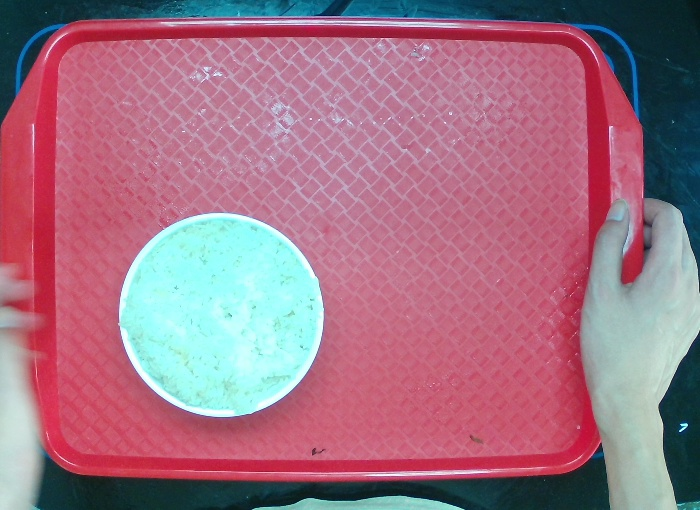YKMZ-Fan_Wan: (117, 211, 327, 418)
